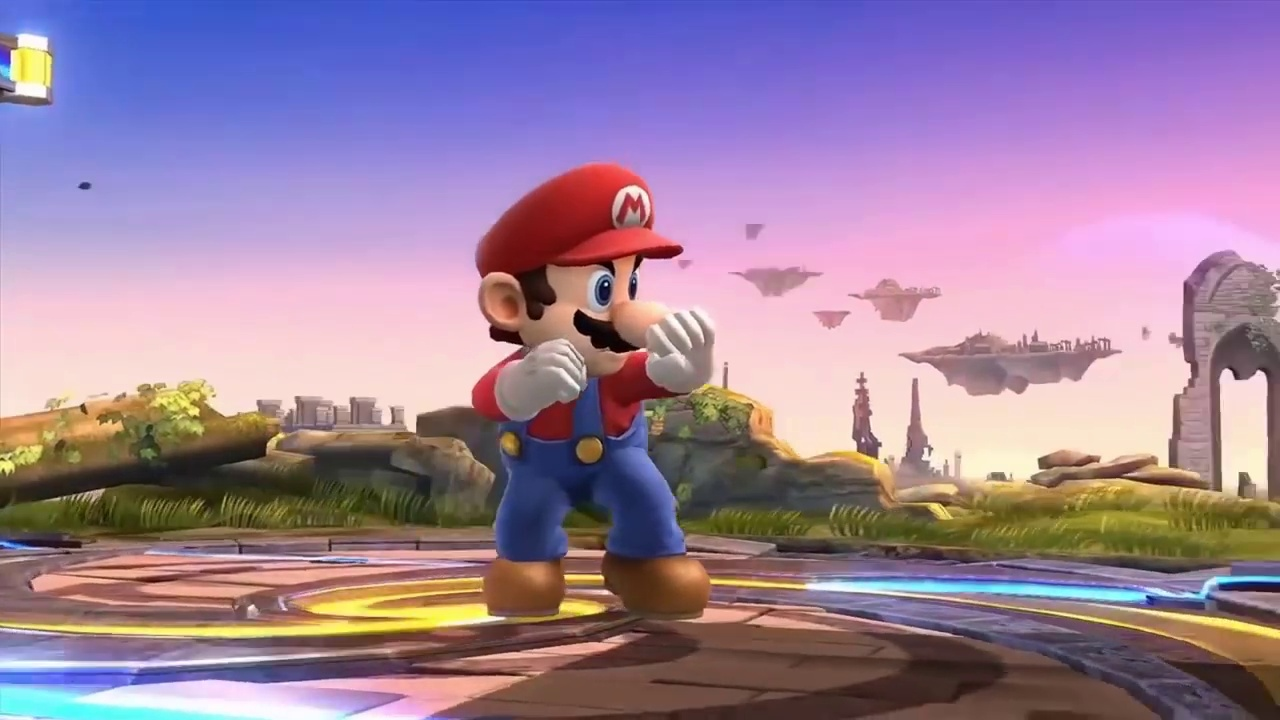Mario: (474, 160, 716, 621)
